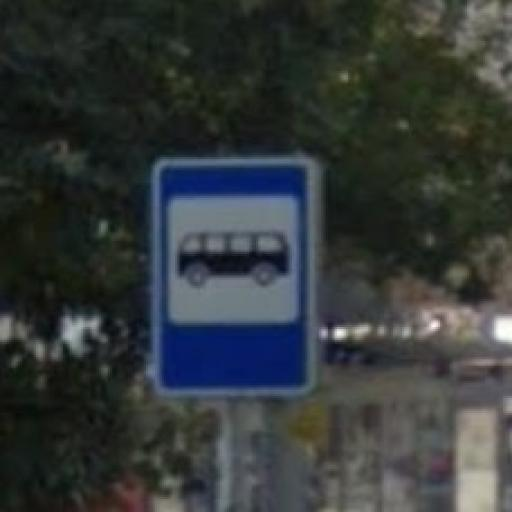traffic_sign: (152, 154, 322, 399)
